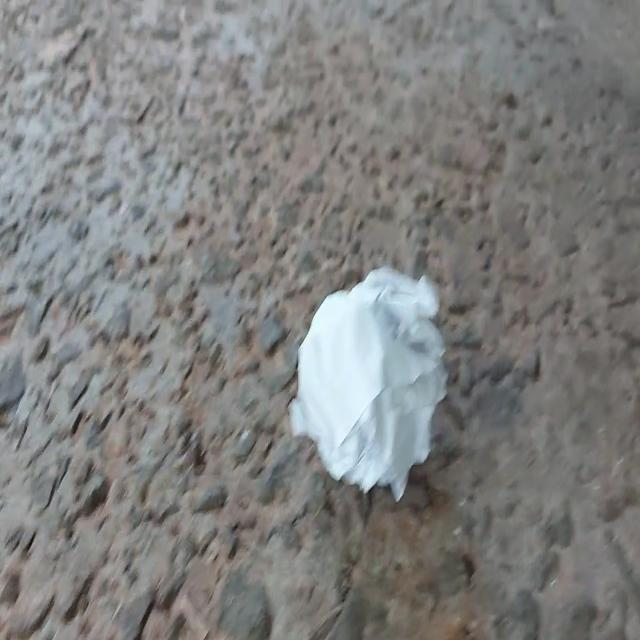Paper: (269, 245, 461, 516)
